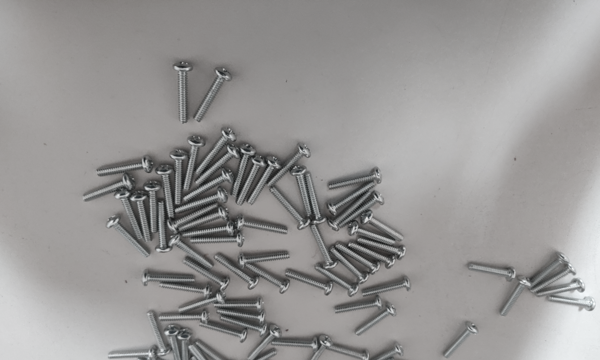longscrew: (195, 68, 232, 123), (79, 173, 137, 207), (266, 143, 309, 188), (269, 186, 311, 231), (325, 180, 379, 215), (194, 144, 240, 184), (326, 190, 373, 229), (166, 236, 216, 271), (195, 129, 232, 174), (108, 219, 149, 259), (249, 156, 280, 207), (163, 199, 215, 229), (169, 199, 221, 229), (235, 155, 266, 205), (529, 252, 567, 292), (180, 171, 232, 200), (179, 200, 231, 229), (216, 254, 259, 289), (531, 262, 577, 294), (227, 146, 254, 199), (328, 249, 370, 283), (355, 305, 397, 339), (95, 155, 154, 179), (327, 167, 383, 192), (317, 264, 358, 298), (342, 196, 385, 228), (336, 245, 383, 274), (351, 241, 398, 269), (175, 289, 227, 314), (183, 259, 231, 286), (444, 323, 478, 360), (248, 265, 292, 293), (501, 277, 531, 318), (244, 327, 281, 360), (360, 234, 408, 259), (534, 275, 588, 297), (362, 212, 404, 240), (304, 169, 324, 226), (348, 221, 395, 245), (311, 224, 336, 269), (117, 189, 139, 240), (332, 294, 383, 316), (286, 272, 334, 295), (362, 277, 412, 299), (200, 321, 248, 343), (183, 214, 231, 236), (158, 161, 174, 222), (170, 144, 186, 205), (185, 132, 201, 193), (175, 62, 191, 123), (465, 262, 518, 280), (548, 293, 598, 312), (157, 305, 209, 323), (134, 191, 152, 243), (240, 249, 289, 268), (190, 231, 252, 246), (220, 316, 266, 336), (321, 343, 374, 360), (233, 217, 292, 232), (142, 271, 196, 287), (295, 165, 311, 217), (149, 309, 165, 358), (105, 345, 156, 360), (197, 340, 234, 360), (271, 336, 320, 351), (213, 309, 269, 322), (161, 280, 211, 294), (304, 336, 331, 360), (362, 345, 405, 360), (213, 298, 265, 310), (156, 200, 168, 252), (146, 178, 157, 234), (235, 349, 279, 360), (189, 345, 218, 360), (166, 324, 178, 360), (179, 330, 191, 360), (192, 355, 214, 360), (136, 359, 178, 360)
